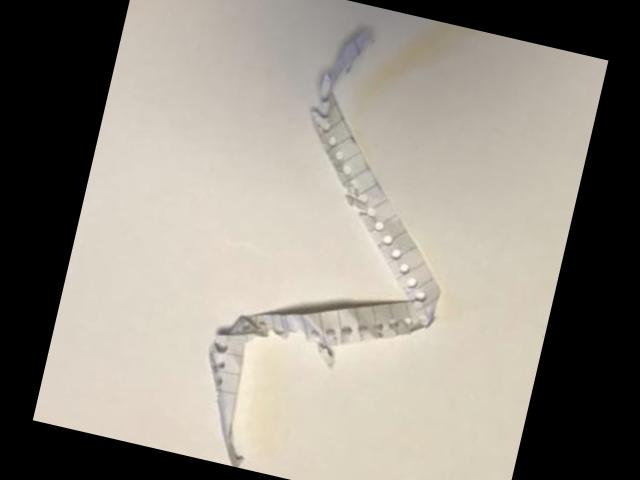cardboard paper: (204, 25, 440, 468)
